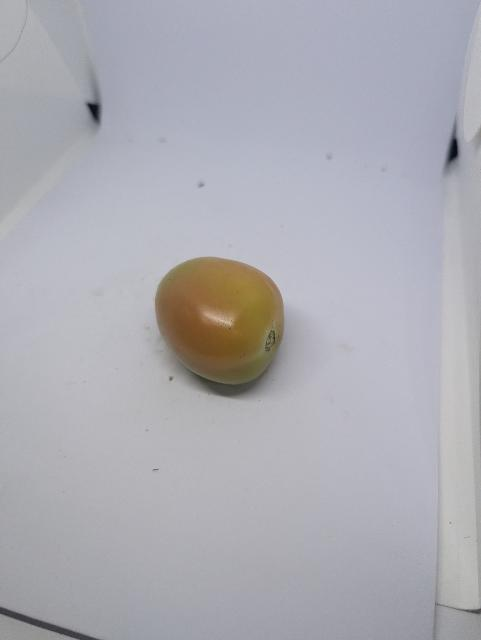turning: (155, 257, 284, 384)
